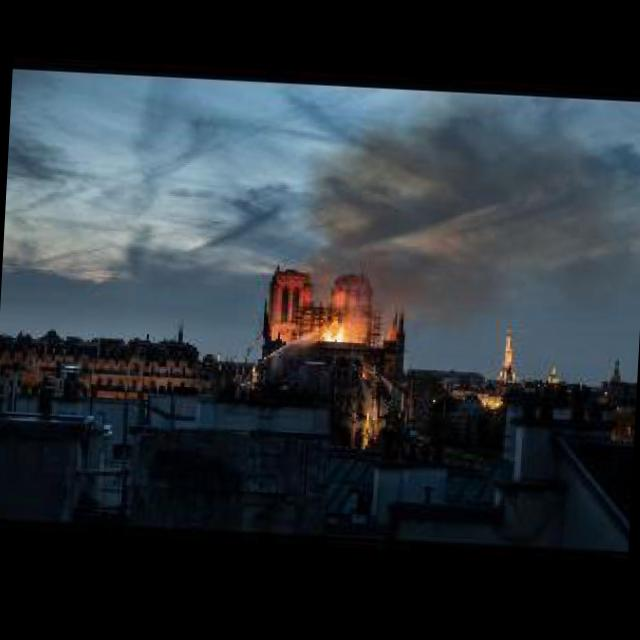fire: (321, 324, 348, 342)
smoke: (306, 93, 640, 330)
